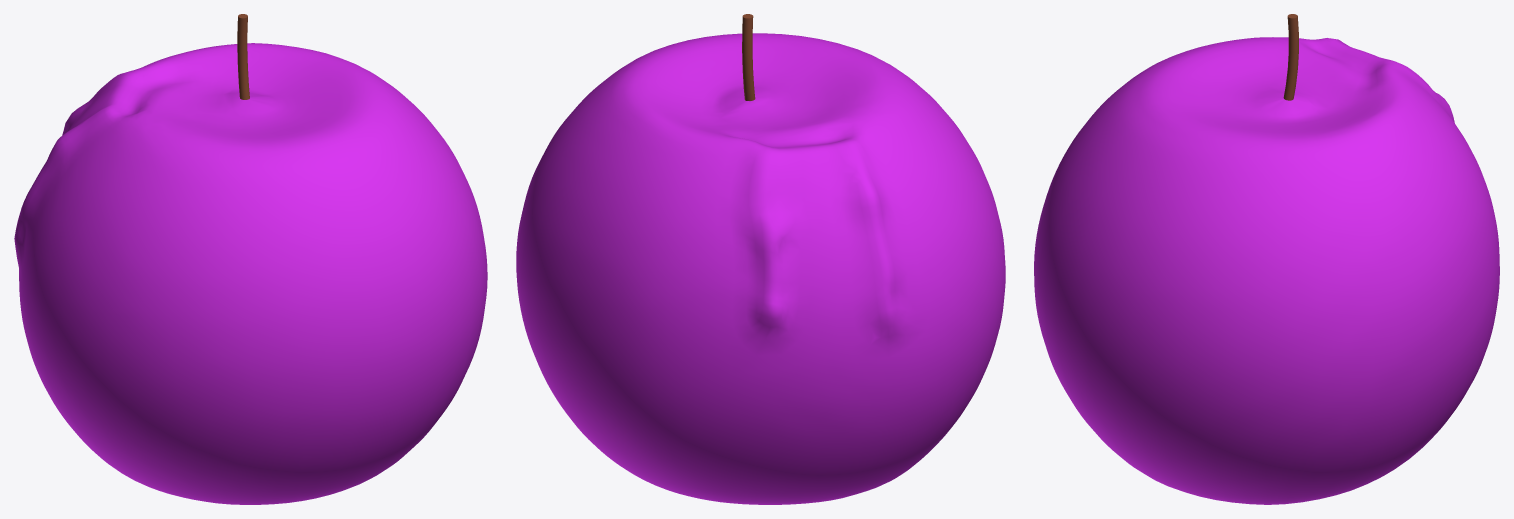
Rendered from Candle_Style3.fbx.
3 views of the same model, side by side, from view 1: azimuth 30°, elevation 25°; view 2: azimuth 150°, elevation 25°; view 3: azimuth 270°, elevation 25° (orthographic). The views are drawn at different scales.
Parts seen in each view (by area): view 1: bougie_ronde_usé; view 2: bougie_ronde_usé; view 3: bougie_ronde_usé.
Part boxes in pixels (x1,y1,x2,y2): bougie_ronde_usé: (14, 14, 487, 504); bougie_ronde_usé: (516, 14, 1005, 504); bougie_ronde_usé: (1034, 14, 1499, 504).
Bounding box in the file's own units: 1.99 × 2.01 × 1.94.
